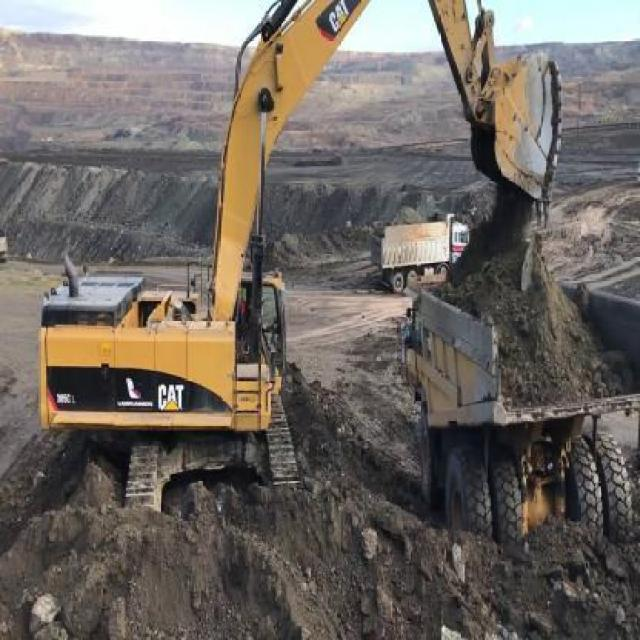Dump Truck: (395, 264, 640, 547), (368, 209, 472, 293)
Excavator: (29, 0, 565, 508)
